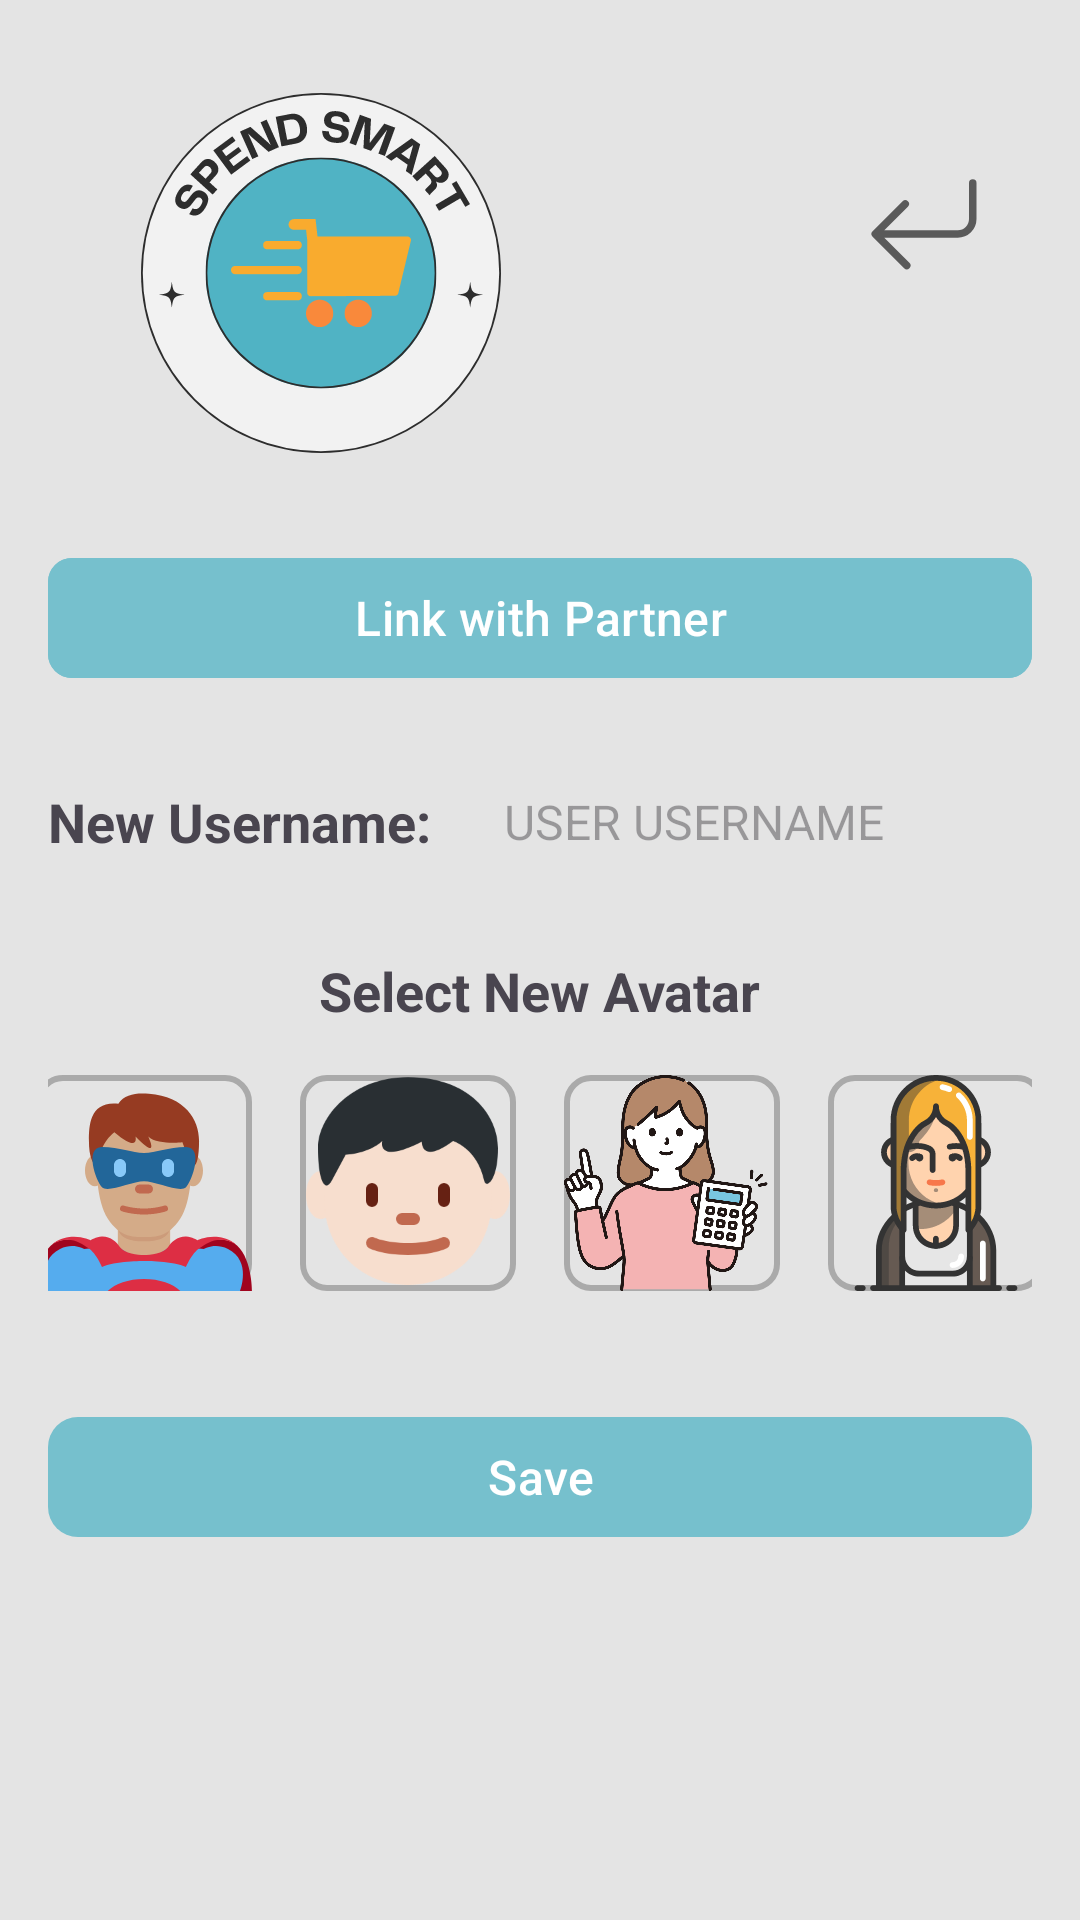

Icons on this 1080x1920 Android screen, each with the point to tap as (x,y):
return: (924,224)
